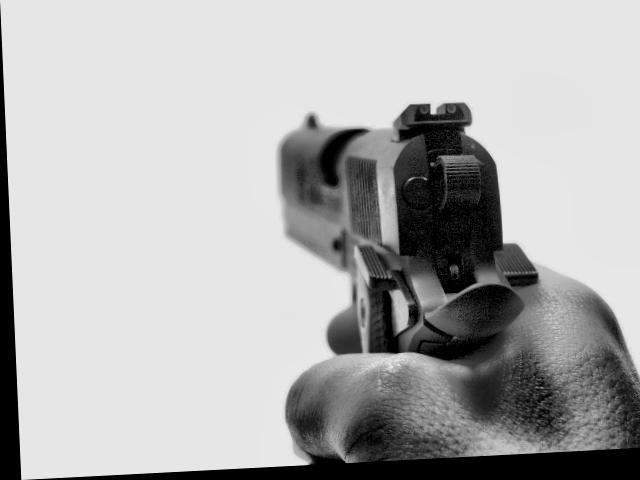pistol: (265, 107, 541, 385)
